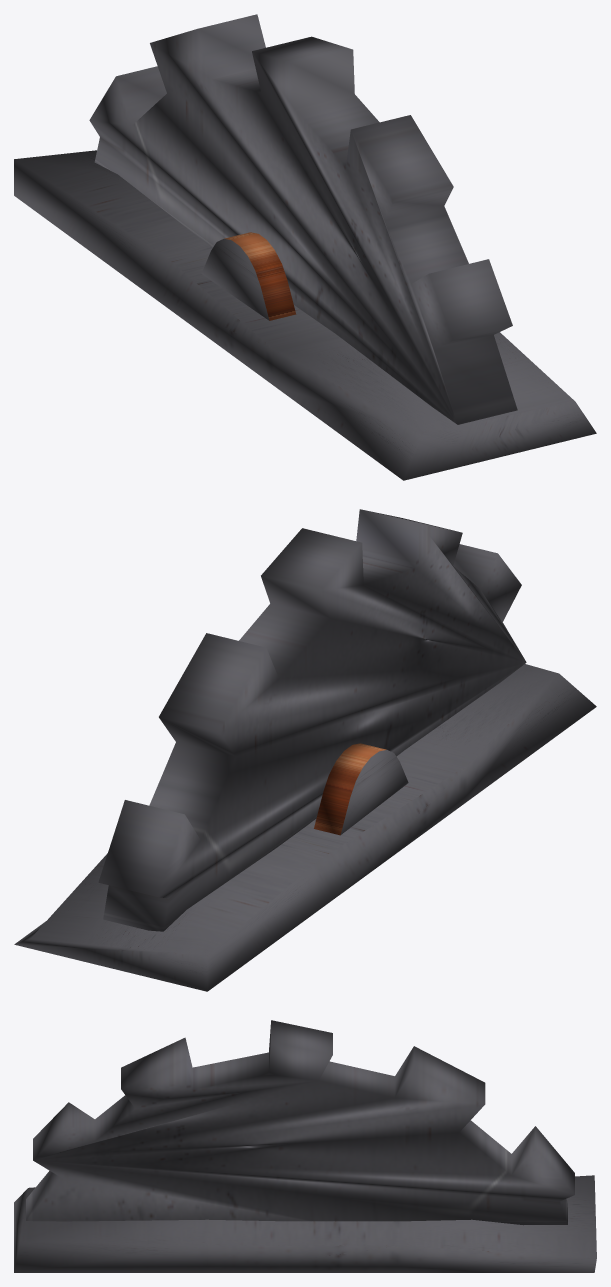
File: PalancaBase.obj
The picture shows the model from 3 angles, top to bottom: view 1: azimuth 30°, elevation 25°; view 2: azimuth 150°, elevation 25°; view 3: azimuth 270°, elevation 25°; orthographic projection. The views are drawn at different scales.
Parts seen in each view (by area): view 1: Line024, base006, NGon009; view 2: Line024, base006, NGon009; view 3: Line024, base006.
Boxes of the visible parts, x1,y1,x2,y2 form: Line024: (89,14,517,424); base006: (14,150,596,480); NGon009: (201,232,296,320); Line024: (98,509,526,931); base006: (14,664,596,991); NGon009: (314,743,408,835); Line024: (26,1020,574,1225); base006: (14,1175,596,1272).
Bounding box in the file's own units: 12.9 × 17.53 × 45.18.
